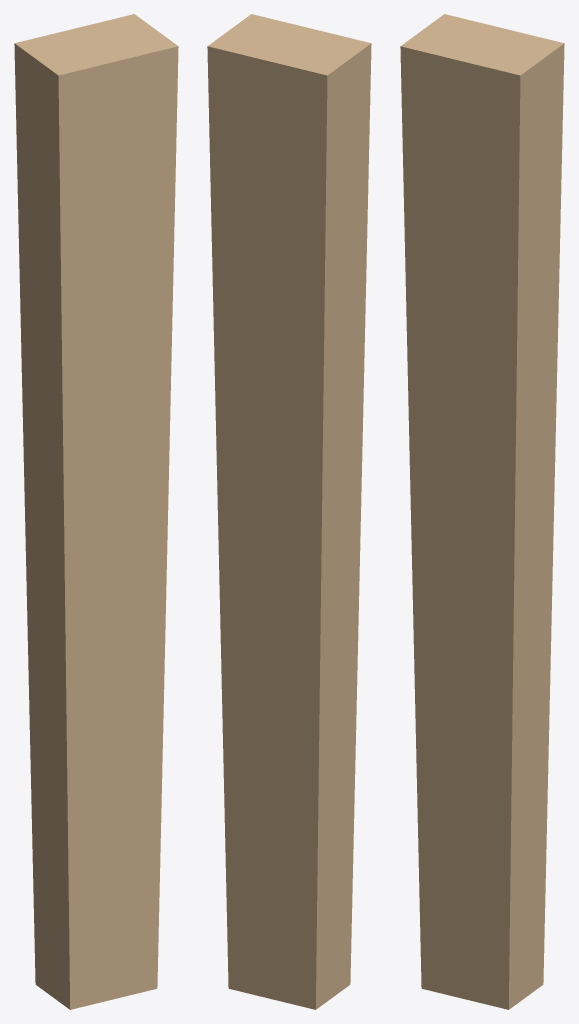
File: prop-joiner-mallet-handle-jm1.fbx
The picture shows the model from 3 angles, left to right: view 1: azimuth 30°, elevation 25°; view 2: azimuth 150°, elevation 25°; view 3: azimuth 330°, elevation 25°; orthographic projection.
Parts seen in each view (by area): view 1: prop-joiner-mallet-handle-jm1; view 2: prop-joiner-mallet-handle-jm1; view 3: prop-joiner-mallet-handle-jm1.
Boxes of the visible parts, box(x1,y1,x2,y2) form: prop-joiner-mallet-handle-jm1: box(14, 14, 178, 1009); prop-joiner-mallet-handle-jm1: box(207, 14, 371, 1009); prop-joiner-mallet-handle-jm1: box(400, 14, 564, 1009).
Size of the model in its own units: 4.4 by 33 by 2.8.
